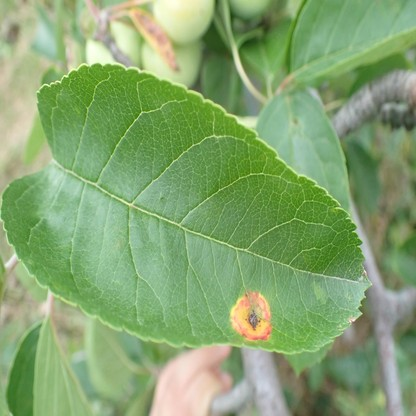rust: (231, 293, 273, 339)
